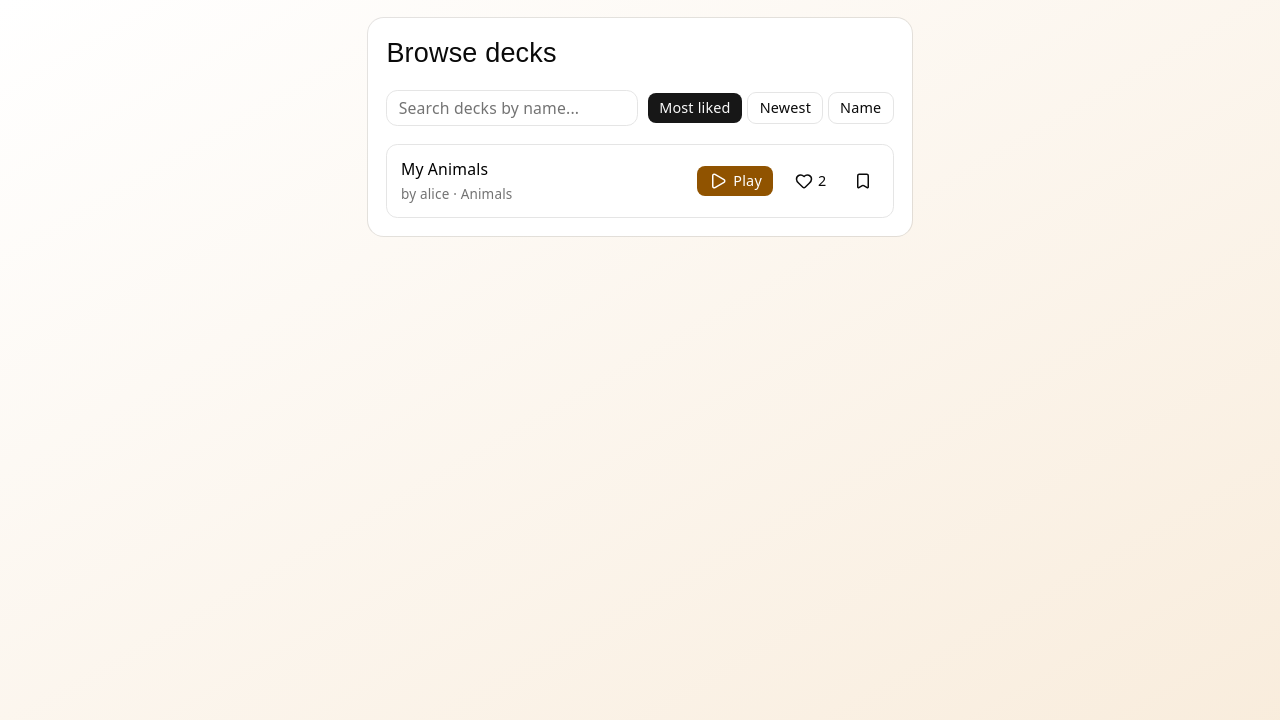
BrowseDecksPage › saves a deck to the library
The image size is (1280, 720).
Expected: the text "My Animals" is shown, x1=401 y1=158 x2=488 y2=181
Step 1. Click the button named "Add My Animals to My Decks" → (863, 181), box x1=848 y1=165 x2=879 y2=197
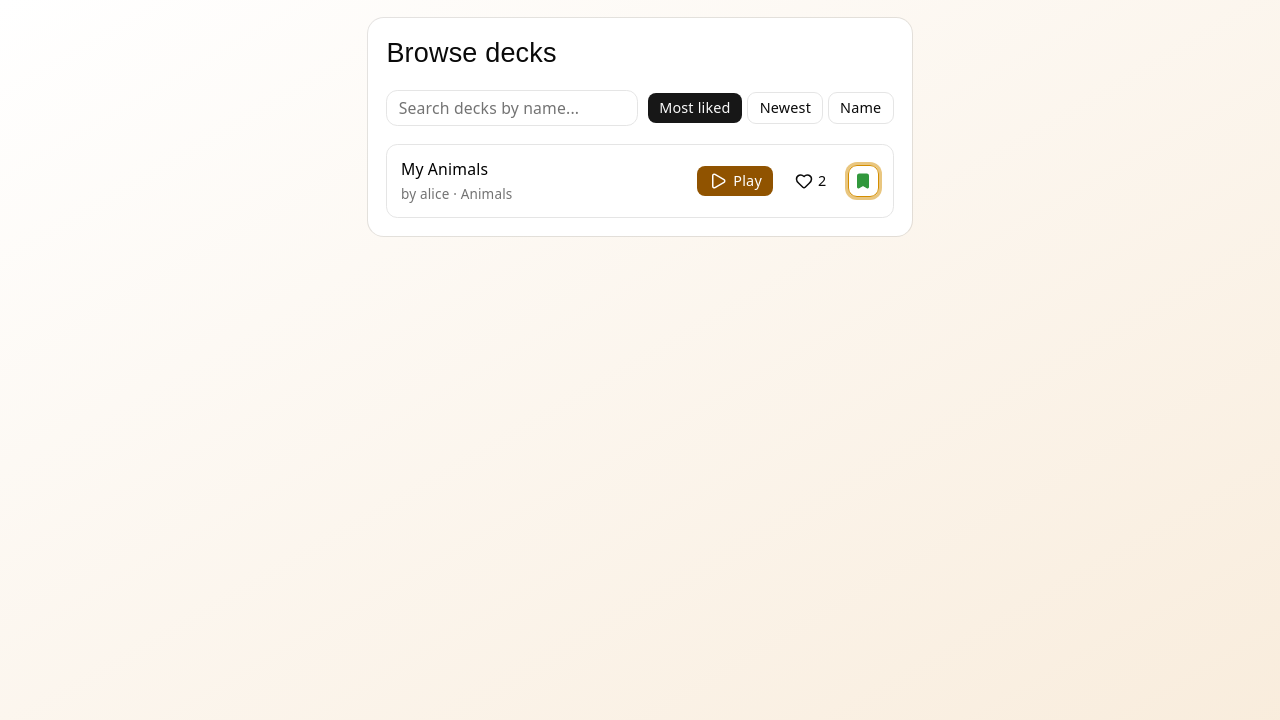
Result: the button named "Remove My Animals from My Decks" is shown at x1=848 y1=165 x2=879 y2=197
